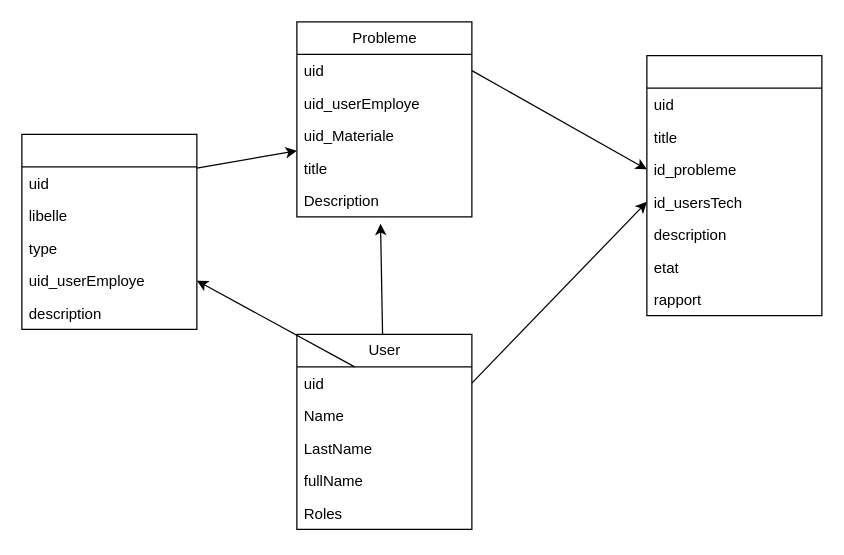
Some shapes in this 844 by 555 pixel diagram are drawn without their labels. The box of each missing label's shape, as (x1, y1, x2, y2) in pixels:
Materiale: (21, 133, 197, 329)
tache: (646, 54, 822, 316)
